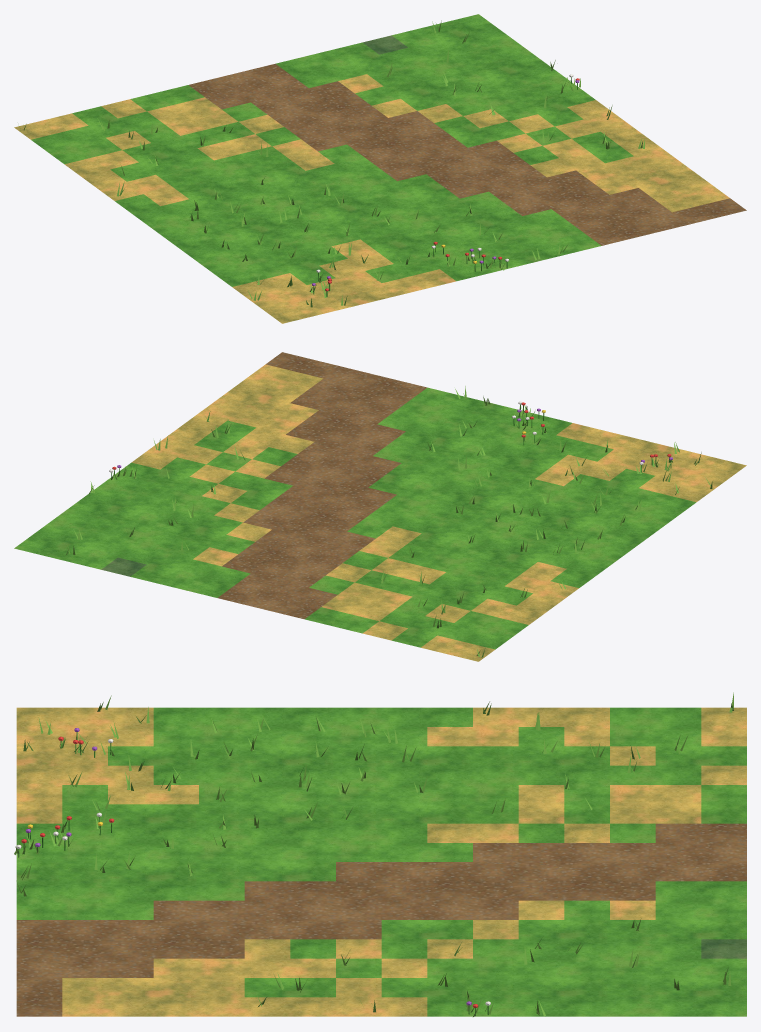
File: chunk_2_11.glb
3 renders of one model, top to bottom at view 1: azimuth 30°, elevation 25°; view 2: azimuth 150°, elevation 25°; view 3: azimuth 270°, elevation 25°, orthographic. The views are drawn at different scales.
Visible parts, largest first — view 1: chunk_2_11; view 2: chunk_2_11; view 3: chunk_2_11.
Part boxes in pixels (x1,y1,x2,y2): chunk_2_11: (14, 14, 746, 323); chunk_2_11: (14, 352, 746, 661); chunk_2_11: (14, 692, 746, 1016).
Size of the model in its own units: 16.2 by 0.4069 by 16.06.
10 materials, 5 textured.
